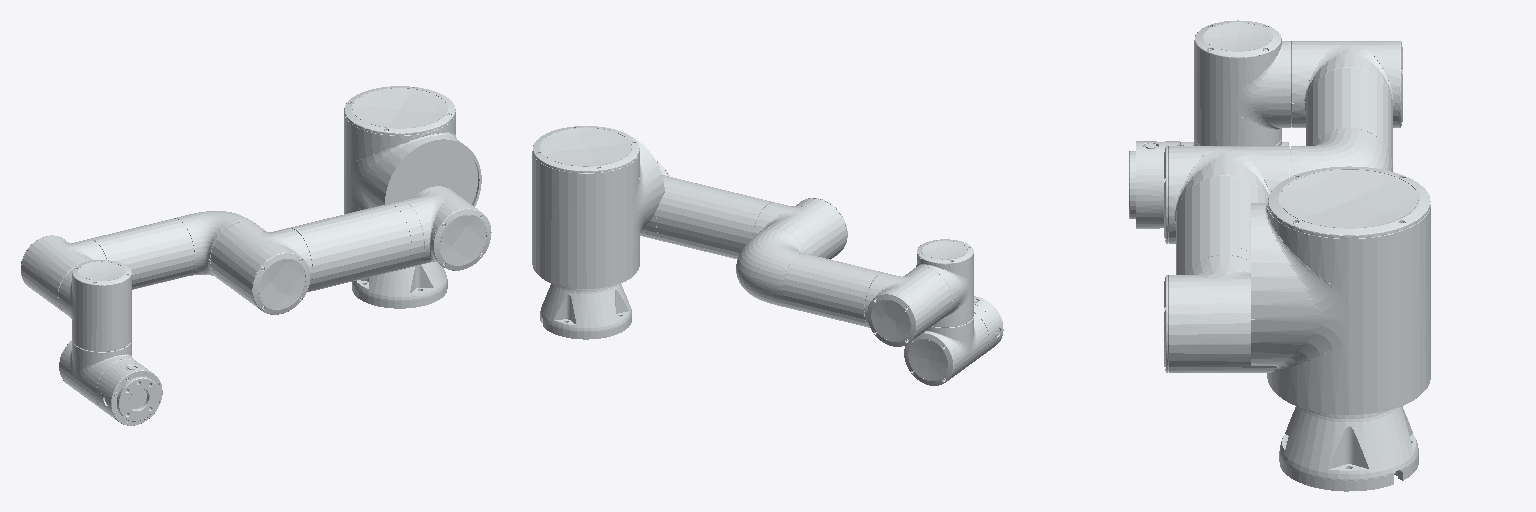
The robot description file, URDF, robot "fr3v6":
<?xml version="1.0" encoding="utf-8" ?>
<!-- This URDF was automatically created by SolidWorks to URDF Exporter! Originally created by [author] ([email redacted]) 
     Commit Version: 1.5.1-0-g916b5db  Build Version: 1.5.7152.31018
     For more information, please see http://wiki.ros.org/sw_urdf_exporter -->
<robot name="fr3v6">
    <link name="world" />
    <joint name="world" type="fixed">
        <parent link="world" />
        <child link="base_link" />
    </joint>
    <link name="base_link">
        
<inertial>
            <origin xyz="-0.00049027 -0.00045095 0.032527" rpy="0 0 0" />
            <mass value="0.78393" />
            <inertia ixx="0.0013854" ixy="1.1455E-05" ixz="-1.0642E-05" iyy="0.0013849" iyz="-9.7435E-06" izz="0.001977" />
        </inertial>

        <visual>
            <origin xyz="0 0 0" rpy="0 0 0" />
            <geometry>
                <mesh filename="package://frcobot_description/meshes/fr3v6/visual/base_link.DAE" />
            </geometry>
            <material name="">
                <color rgba="0.89804 0.91765 0.92941 1" />
            </material>
        </visual>
        <collision>
            <origin xyz="0 0 0" rpy="0 0 0" />
            <geometry>
                <mesh filename="package://frcobot_description/meshes/fr3v6/collision/base_link.STL" />
            </geometry>
        </collision>
    </link>
    <link name="j1_Link">
        
<inertial>
            <origin xyz="-3.8658E-07 -0.0024176 0.13519" rpy="0 0 0" />
            <mass value="2.1225" />
            <inertia ixx="0.0033227" ixy="-5.0648E-08" ixz="-6.3401E-09" iyy="0.0032419" iyz="4.3768E-05" izz="0.0023129" />
        </inertial>

        <visual>
            <origin xyz="0 0 0" rpy="0 0 0" />
            <geometry>
                <mesh filename="package://frcobot_description/meshes/fr3v6/visual/j1_Link.DAE" />
            </geometry>
            <material name="">
                <color rgba="0.89804 0.91765 0.92941 1" />
            </material>
        </visual>
        <collision>
            <origin xyz="0 0 0" rpy="0 0 0" />
            <geometry>
                <mesh filename="package://frcobot_description/meshes/fr3v6/collision/j1_Link.STL" />
            </geometry>
        </collision>
    </link>
    <joint name="j1" type="revolute">
        <origin xyz="0 0 0" rpy="0 0 0" />
        <parent link="base_link" />
        <child link="j1_Link" />
        <axis xyz="0 0 1" />
        <limit lower="-3.0543" upper="3.0543" effort="150" velocity="3.15" />
        <calibration rising="0" falling="0" />
        <dynamics damping="0" friction="0" />
        <safety_controller soft_lower_limit="-3.0543" soft_upper_limit="3.0543" k_position="15" k_velocity="10" />
    </joint>
    <link name="j2_Link">
        
<inertial>
            <origin xyz="-0.14111 3.4656E-06 0.11053" rpy="0 0 0" />
            <mass value="4.8053" />
            <inertia ixx="0.0075945" ixy="3.7143E-07" ixz="-7.9228E-12" iyy="0.0081317" iyz="-1.2918E-11" izz="0.0059231" />
        </inertial>

        <visual>
            <origin xyz="0 0 0" rpy="0 0 0" />
            <geometry>
                <mesh filename="package://frcobot_description/meshes/fr3v6/visual/j2_Link.DAE" />
            </geometry>
            <material name="">
                <color rgba="0.89804 0.91765 0.92941 1" />
            </material>
        </visual>
        <collision>
            <origin xyz="0 0 0" rpy="0 0 0" />
            <geometry>
                <mesh filename="package://frcobot_description/meshes/fr3v6/collision/j2_Link.STL" />
            </geometry>
        </collision>
    </link>
    <joint name="j2" type="revolute">
        <origin xyz="0 0 0.14" rpy="1.5708 0 0" />
        <parent link="j1_Link" />
        <child link="j2_Link" />
        <axis xyz="0 0 1" />
        <limit lower="-4.6251" upper="1.4835" effort="150" velocity="3.15" />
        <calibration rising="0" falling="0" />
        <dynamics damping="0" friction="0" />
        <safety_controller soft_lower_limit="-4.6251" soft_upper_limit="1.4835" k_position="15" k_velocity="10" />
    </joint>
    <link name="j3_Link">
        
<inertial>
            <origin xyz="-0.18987 5.2268E-06 0.0034145" rpy="0 0 0" />
            <mass value="2.2312" />
            <inertia ixx="0.0028852" ixy="7.3389E-07" ixz="-3.5373E-05" iyy="0.0035145" iyz="-2.8527E-07" izz="0.0029186" />
        </inertial>

        <visual>
            <origin xyz="0 0 0" rpy="0 0 0" />
            <geometry>
                <mesh filename="package://frcobot_description/meshes/fr3v6/visual/j3_Link.DAE" />
            </geometry>
            <material name="">
                <color rgba="0.89804 0.91765 0.92941 1" />
            </material>
        </visual>
        <collision>
            <origin xyz="0 0 0" rpy="0 0 0" />
            <geometry>
                <mesh filename="package://frcobot_description/meshes/fr3v6/collision/j3_Link.STL" />
            </geometry>
        </collision>
    </link>
    <joint name="j3" type="revolute">
        <origin xyz="-0.28 0 0" rpy="0 0 0" />
        <parent link="j2_Link" />
        <child link="j3_Link" />
        <axis xyz="0 0 1" />
        <limit lower="-2.8274" upper="2.8274" effort="150" velocity="3.15" />
        <calibration rising="0" falling="0" />
        <dynamics damping="0" friction="0" />
        <safety_controller soft_lower_limit="-2.8274" soft_upper_limit="2.8274" k_position="15" k_velocity="10" />
    </joint>
    <link name="j4_Link">
        
<inertial>
            <origin xyz="4.5665E-07 -0.0034666 0.098292" rpy="0 0 0" />
            <mass value="1.5961" />
            <inertia ixx="0.0020112" ixy="6.8085E-09" ixz="2.4945E-08" iyy="0.0014524" iyz="3.2511E-05" izz="0.0019076" />
        </inertial>

        <visual>
            <origin xyz="0 0 0" rpy="0 0 0" />
            <geometry>
                <mesh filename="package://frcobot_description/meshes/fr3v6/visual/j4_Link.DAE" />
            </geometry>
            <material name="">
                <color rgba="0.89804 0.91765 0.92941 1" />
            </material>
        </visual>
        <collision>
            <origin xyz="0 0 0" rpy="0 0 0" />
            <geometry>
                <mesh filename="package://frcobot_description/meshes/fr3v6/collision/j4_Link.STL" />
            </geometry>
        </collision>
    </link>
    <joint name="j4" type="revolute">
        <origin xyz="-0.24001 0 0" rpy="0 0 0" />
        <parent link="j3_Link" />
        <child link="j4_Link" />
        <axis xyz="0 0 1" />
        <limit lower="-4.6251" upper="1.4835" effort="28" velocity="3.2" />
        <calibration rising="0" falling="0" />
        <dynamics damping="0" friction="0" />
        <safety_controller soft_lower_limit="-4.6251" soft_upper_limit="1.4835" k_position="15" k_velocity="10" />
    </joint>
    <link name="j5_Link">
        
<inertial>
            <origin xyz="-4.5262E-07 0.0034666 0.098292" rpy="0 0 0" />
            <mass value="1.5961" />
            <inertia ixx="0.0020112" ixy="6.8086E-09" ixz="-2.4945E-08" iyy="0.0014524" iyz="-3.2511E-05" izz="0.0019076" />
        </inertial>

        <visual>
            <origin xyz="0 0 0" rpy="0 0 0" />
            <geometry>
                <mesh filename="package://frcobot_description/meshes/fr3v6/visual/j5_Link.DAE" />
            </geometry>
            <material name="">
                <color rgba="0.89804 0.91765 0.92941 1" />
            </material>
        </visual>
        <collision>
            <origin xyz="0 0 0" rpy="0 0 0" />
            <geometry>
                <mesh filename="package://frcobot_description/meshes/fr3v6/collision/j5_Link.STL" />
            </geometry>
        </collision>
    </link>
    <joint name="j5" type="revolute">
        <origin xyz="0 0 0.102" rpy="1.5708 0 0" />
        <parent link="j4_Link" />
        <child link="j5_Link" />
        <axis xyz="0 0 1" />
        <limit lower="-3.0543" upper="3.0543" effort="28" velocity="3.2" />
        <calibration rising="0" falling="0" />
        <dynamics damping="0" friction="0" />
        <safety_controller soft_lower_limit="-3.0543" soft_upper_limit="3.0543" k_position="15" k_velocity="10" />
    </joint>
    <link name="j6_Link">
        
<inertial>
            <origin xyz="7.559E-05 1.3858E-05 0.076619" rpy="0 0 0" />
            <mass value="0.53877" />
            <inertia ixx="0.00028785" ixy="-2.0584E-09" ixz="-1.3892E-07" iyy="0.00028896" iyz="1.8115E-07" izz="0.00042655" />
        </inertial>

        <visual>
            <origin xyz="0 0 0" rpy="0 0 0" />
            <geometry>
                <mesh filename="package://frcobot_description/meshes/fr3v6/visual/j6_Link.DAE" />
            </geometry>
            <material name="">
                <color rgba="0.89804 0.91765 0.92941 1" />
            </material>
        </visual>
        <collision>
            <origin xyz="0 0 0" rpy="0 0 0" />
            <geometry>
                <mesh filename="package://frcobot_description/meshes/fr3v6/collision/j6_Link.STL" />
            </geometry>
        </collision>
    </link>
    <joint name="j6" type="revolute">
        <origin xyz="0 0 0.102" rpy="-1.5708 0 0" />
        <parent link="j5_Link" />
        <child link="j6_Link" />
        <axis xyz="0 0 1" />
        <limit lower="-3.0543" upper="3.0543" effort="28" velocity="3.2" />
        <calibration rising="0" falling="0" />
        <dynamics damping="0" friction="0" />
        <safety_controller soft_lower_limit="-3.0543" soft_upper_limit="3.0543" k_position="15" k_velocity="10" />
    </joint>
    <link name="tool_Link">
        
<inertial>
            <origin xyz="0.24412 0.079181 -0.126" rpy="0 0 0" />
            <mass value="0" />
            <inertia ixx="0.10666" ixy="-0.046059" ixz="0.046354" iyy="0.87967" iyz="0.0095222" izz="0.85231" />
        </inertial>

        <visual>
            <origin xyz="0 0 0" rpy="0 0 0" />
            <geometry>
                <mesh filename="package://frcobot_description/meshes/fr3v6/visual/tool_Link.STL" />
            </geometry>
            <material name="">
                <color rgba="1 1 1 1" />
            </material>
        </visual>
        <collision>
            <origin xyz="0 0 0" rpy="0 0 0" />
            <geometry>
                <mesh filename="package://frcobot_description/meshes/fr3v6/collision/tool_Link.STL" />
            </geometry>
        </collision>
    </link>
    <joint name="tool" type="fixed">
        <origin xyz="0 0 0.1" rpy="0 0 0" />
        <parent link="j6_Link" />
        <child link="tool_Link" />
        <axis xyz="0 0 1" />
        <limit lower="0" upper="0" effort="0" velocity="0" />
        <calibration rising="0" falling="0" />
        <dynamics damping="0" friction="0" />
        <safety_controller soft_lower_limit="0" soft_upper_limit="0" k_position="0" k_velocity="0" />
    </joint>
    
<transmission name="trans_j1">
        <type>transmission_interface/SimpleTransmission</type>
        <joint name="j1">
            <hardwareInterface>hardware_interface/PositionJointInterface</hardwareInterface>
        </joint>
        <actuator name="j1_motor">
            <hardwareInterface>hardware_interface/PositionJointInterface</hardwareInterface>
            <mechanicalReduction>1</mechanicalReduction>
        </actuator>
    </transmission>
    <transmission name="trans_j2">
        <type>transmission_interface/SimpleTransmission</type>
        <joint name="j2">
            <hardwareInterface>hardware_interface/PositionJointInterface</hardwareInterface>
        </joint>
        <actuator name="j2_motor">
            <hardwareInterface>hardware_interface/PositionJointInterface</hardwareInterface>
            <mechanicalReduction>1</mechanicalReduction>
        </actuator>
    </transmission>
    <transmission name="trans_j3">
        <type>transmission_interface/SimpleTransmission</type>
        <joint name="j3">
            <hardwareInterface>hardware_interface/PositionJointInterface</hardwareInterface>
        </joint>
        <actuator name="j3_motor">
            <hardwareInterface>hardware_interface/PositionJointInterface</hardwareInterface>
            <mechanicalReduction>1</mechanicalReduction>
        </actuator>
    </transmission>
    <transmission name="trans_j4">
        <type>transmission_interface/SimpleTransmission</type>
        <joint name="j4">
            <hardwareInterface>hardware_interface/PositionJointInterface</hardwareInterface>
        </joint>
        <actuator name="j4_motor">
            <hardwareInterface>hardware_interface/PositionJointInterface</hardwareInterface>
            <mechanicalReduction>1</mechanicalReduction>
        </actuator>
    </transmission>
    <transmission name="trans_j5">
        <type>transmission_interface/SimpleTransmission</type>
        <joint name="j5">
            <hardwareInterface>hardware_interface/PositionJointInterface</hardwareInterface>
        </joint>
        <actuator name="j5_motor">
            <hardwareInterface>hardware_interface/PositionJointInterface</hardwareInterface>
            <mechanicalReduction>1</mechanicalReduction>
        </actuator>
    </transmission>
    <transmission name="trans_j6">
        <type>transmission_interface/SimpleTransmission</type>
        <joint name="j6">
            <hardwareInterface>hardware_interface/PositionJointInterface</hardwareInterface>
        </joint>
        <actuator name="j6_motor">
            <hardwareInterface>hardware_interface/PositionJointInterface</hardwareInterface>
            <mechanicalReduction>1</mechanicalReduction>
        </actuator>
    </transmission>
    <gazebo>
        <plugin name="gazebo_ros_control" filename="libgazebo_ros_control.so">
            <robotNamespace>/</robotNamespace>
        </plugin>
    </gazebo>
</robot>

--- What the picture shows (computed from the rendered views, not written in the file) ---
The picture shows the robot from 3 angles, left to right: view 1: azimuth 30°, elevation 25°; view 2: azimuth 150°, elevation 25°; view 3: azimuth 270°, elevation 25°; orthographic projection.
Robot: fr3v6 — 9 links, 8 joints (6 revolute, 2 fixed); root link world; default pose: every joint at zero.
Links seen in each view (by area): view 1: j2_Link, j1_Link, j3_Link, j4_Link, j6_Link, base_link, j5_Link; view 2: j1_Link, j3_Link, j2_Link, base_link, j5_Link, j4_Link, j6_Link; view 3: j1_Link, j2_Link, j3_Link, j4_Link, base_link, j6_Link.
Link boxes in pixels (x1,y1,x2,y2): j2_Link: (210,186,491,314); j1_Link: (344,86,481,213); j3_Link: (21,211,255,311); j4_Link: (58,260,131,351); j6_Link: (96,359,162,425); base_link: (352,262,447,308); j5_Link: (59,340,135,408); j1_Link: (532,126,664,288); j3_Link: (736,228,951,346); j2_Link: (640,161,847,259); base_link: (540,283,631,339); j5_Link: (904,313,988,385); j4_Link: (913,239,973,327); j6_Link: (974,296,1003,353); j1_Link: (1251,166,1430,414); j2_Link: (1164,146,1290,372); j3_Link: (1291,41,1402,176); j4_Link: (1194,20,1290,145); base_link: (1279,406,1418,491); j6_Link: (1129,141,1179,228).
Bounding box of the posed robot: 0.635 × 0.277 × 0.2687 m (x, y, z).
Meshes: 8 distinct files referenced, 7 mesh visuals loaded (7 Collada DAE); not drawn: 1 (file found but could not be loaded).
